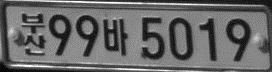0: (168, 16, 193, 60)
1: (197, 17, 219, 61)
5: (141, 16, 164, 59)
9: (225, 18, 251, 62), (48, 13, 72, 56), (75, 14, 98, 57)
바: (102, 17, 127, 55)
부산_V: (20, 12, 46, 56)
